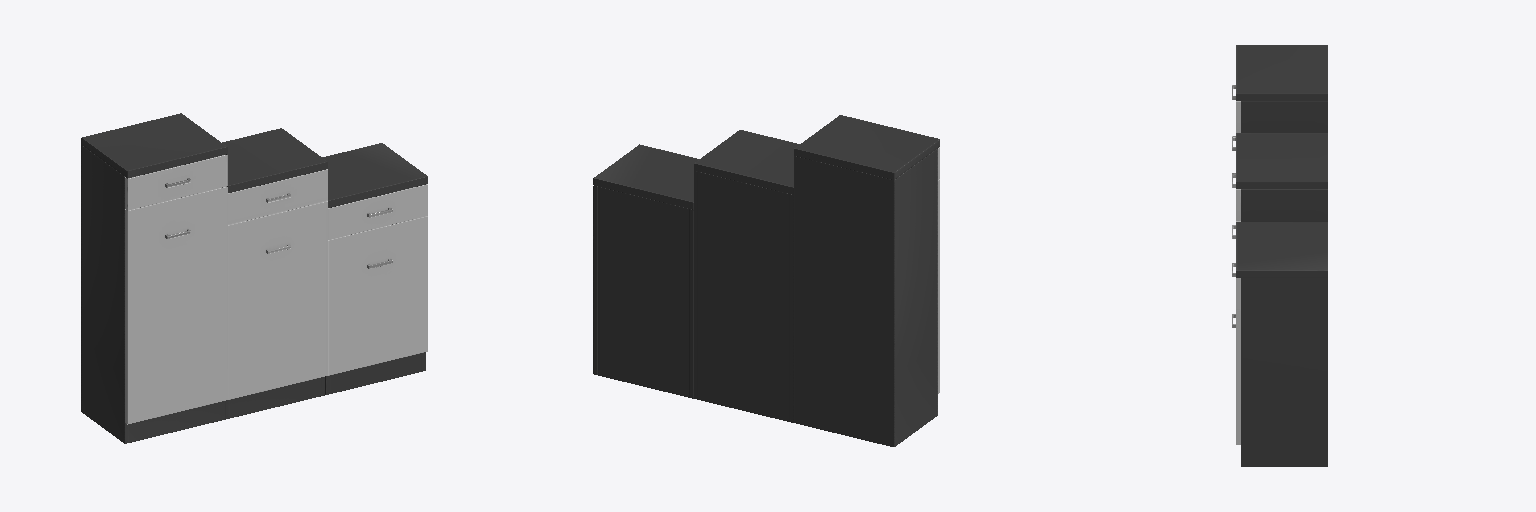
3 renders of one model, left to right at view 1: azimuth 30°, elevation 25°; view 2: azimuth 150°, elevation 25°; view 3: azimuth 270°, elevation 25°, orthographic.
Parts seen in each view (by area): view 1: solid_002, solid_001, solid_003; view 2: solid_001; view 3: solid_001, solid_002.
Part boxes in pixels (bbox=[...]): solid_002: bbox=[125, 155, 427, 424]; solid_001: bbox=[81, 113, 427, 443]; solid_003: bbox=[165, 178, 392, 268]; solid_001: bbox=[593, 115, 939, 446]; solid_001: bbox=[1236, 45, 1327, 466]; solid_002: bbox=[1236, 101, 1240, 444].
Size of the model in its own units: 1.46 by 1.27 by 0.4057.
1 materials, 1 textured.